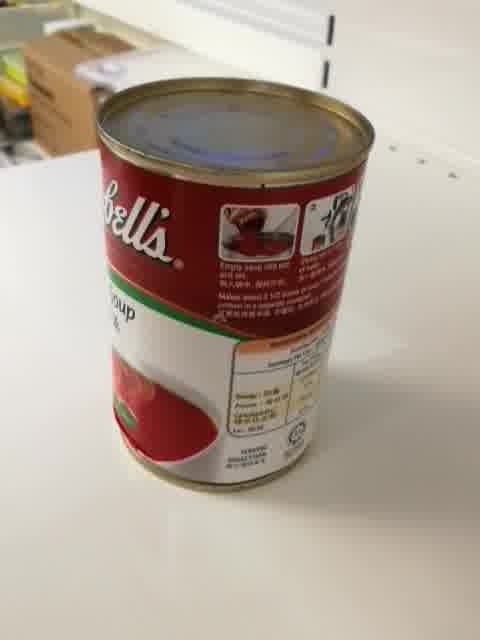tomatosoup: (93, 73, 375, 495)
